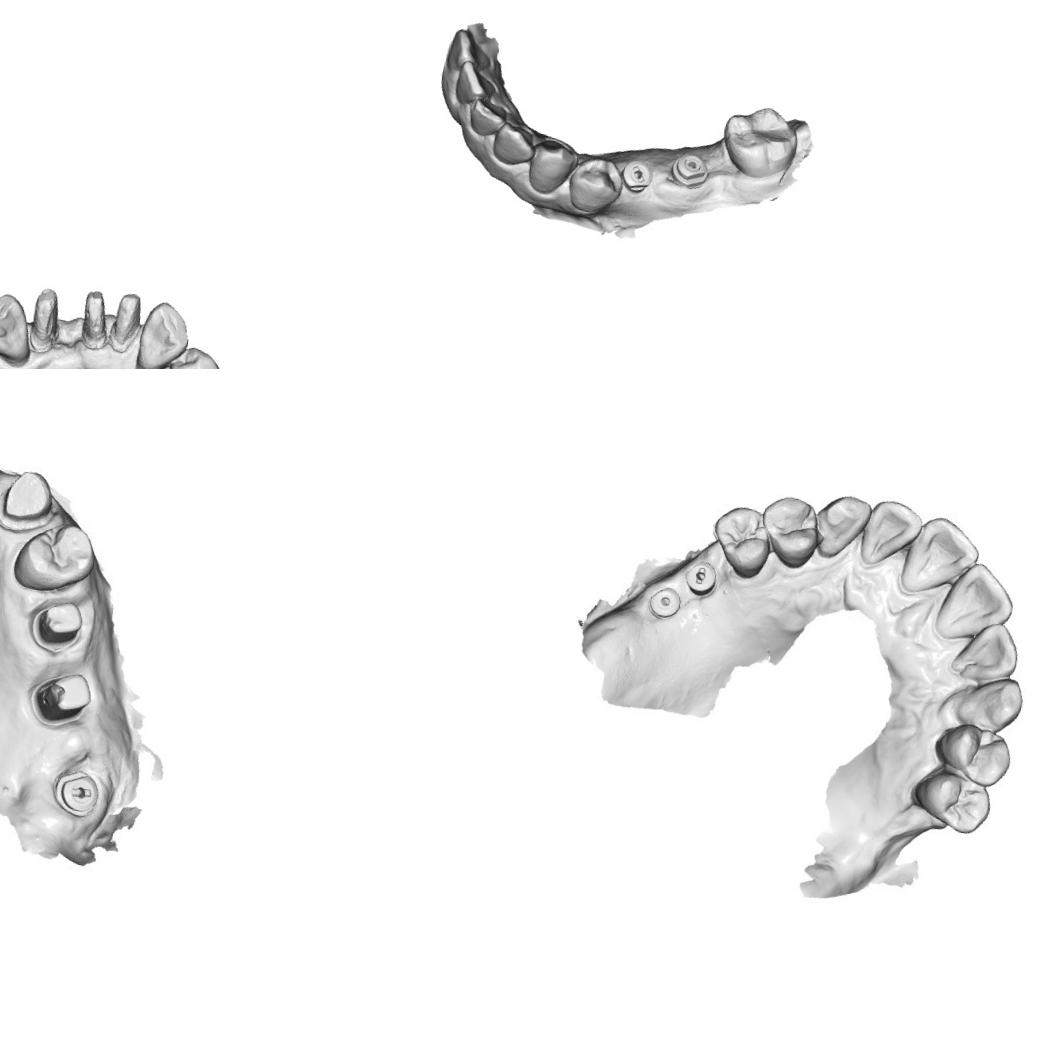abutment: (25, 665, 97, 733), (26, 594, 86, 657)
canine: (948, 670, 1028, 737), (808, 489, 873, 565), (131, 297, 194, 369), (524, 134, 582, 200), (0, 288, 41, 366)
crown: (0, 466, 60, 534), (23, 282, 70, 352), (74, 287, 117, 352), (105, 288, 147, 353)
implant: (667, 150, 712, 191), (645, 580, 684, 622)
implant_minus: (47, 765, 106, 822), (681, 557, 720, 599), (617, 156, 657, 196)
incisor: (896, 511, 983, 605), (932, 556, 1020, 648), (946, 615, 1024, 688), (858, 494, 926, 572), (444, 25, 495, 76), (489, 120, 541, 170), (452, 58, 502, 110), (466, 95, 509, 140)
molar: (717, 100, 803, 185)
premolar: (7, 515, 101, 600), (908, 764, 997, 838), (929, 718, 1016, 790), (753, 490, 828, 572), (706, 500, 779, 583), (563, 153, 627, 220), (161, 342, 227, 369)
